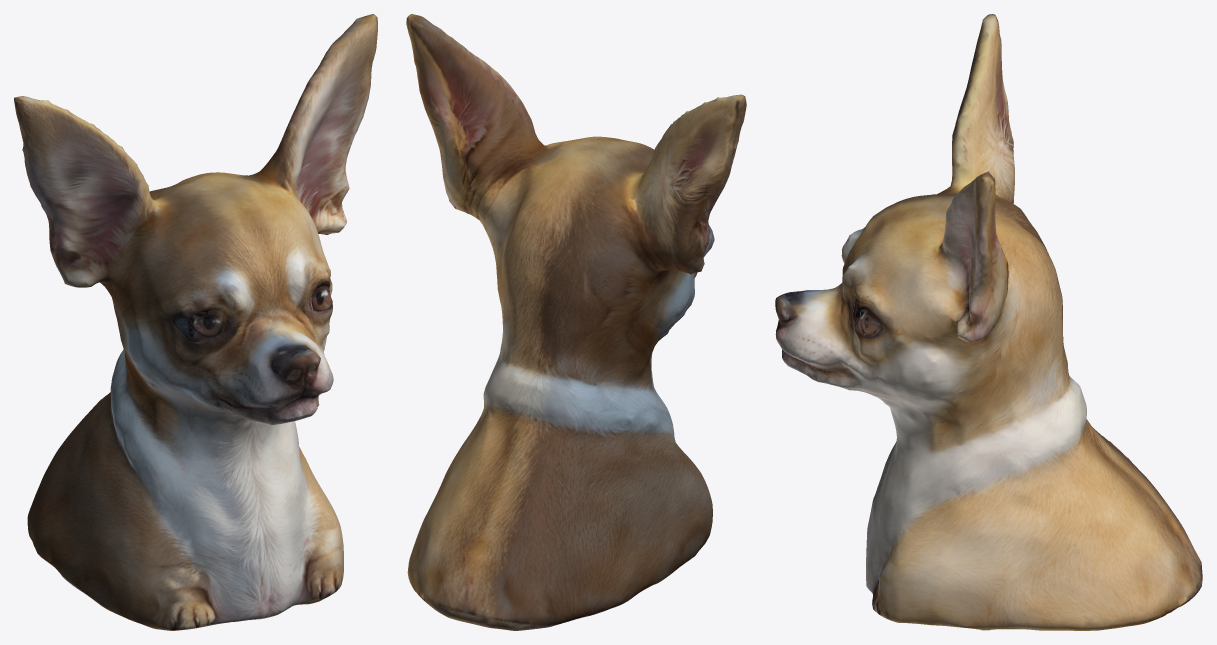
Rendered from chihuahua.glb.
3 views of the same model, side by side, from view 1: azimuth 30°, elevation 25°; view 2: azimuth 150°, elevation 25°; view 3: azimuth 270°, elevation 25° (orthographic). The views are drawn at different scales.
Visible parts, largest first — view 1: Mesh_0.001; view 2: Mesh_0.001; view 3: Mesh_0.001.
Boxes of the visible parts, x1,y1,x2,y2 form: Mesh_0.001: (14,14,377,630); Mesh_0.001: (406,14,746,630); Mesh_0.001: (775,14,1202,630).
Bounding box in the file's own units: 0.8686 × 1.2 × 0.9516.
Materials: 1 (1 with a texture image).
